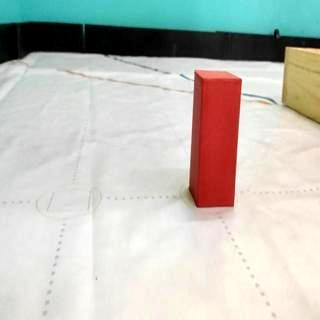redbox: (188, 67, 242, 208)
